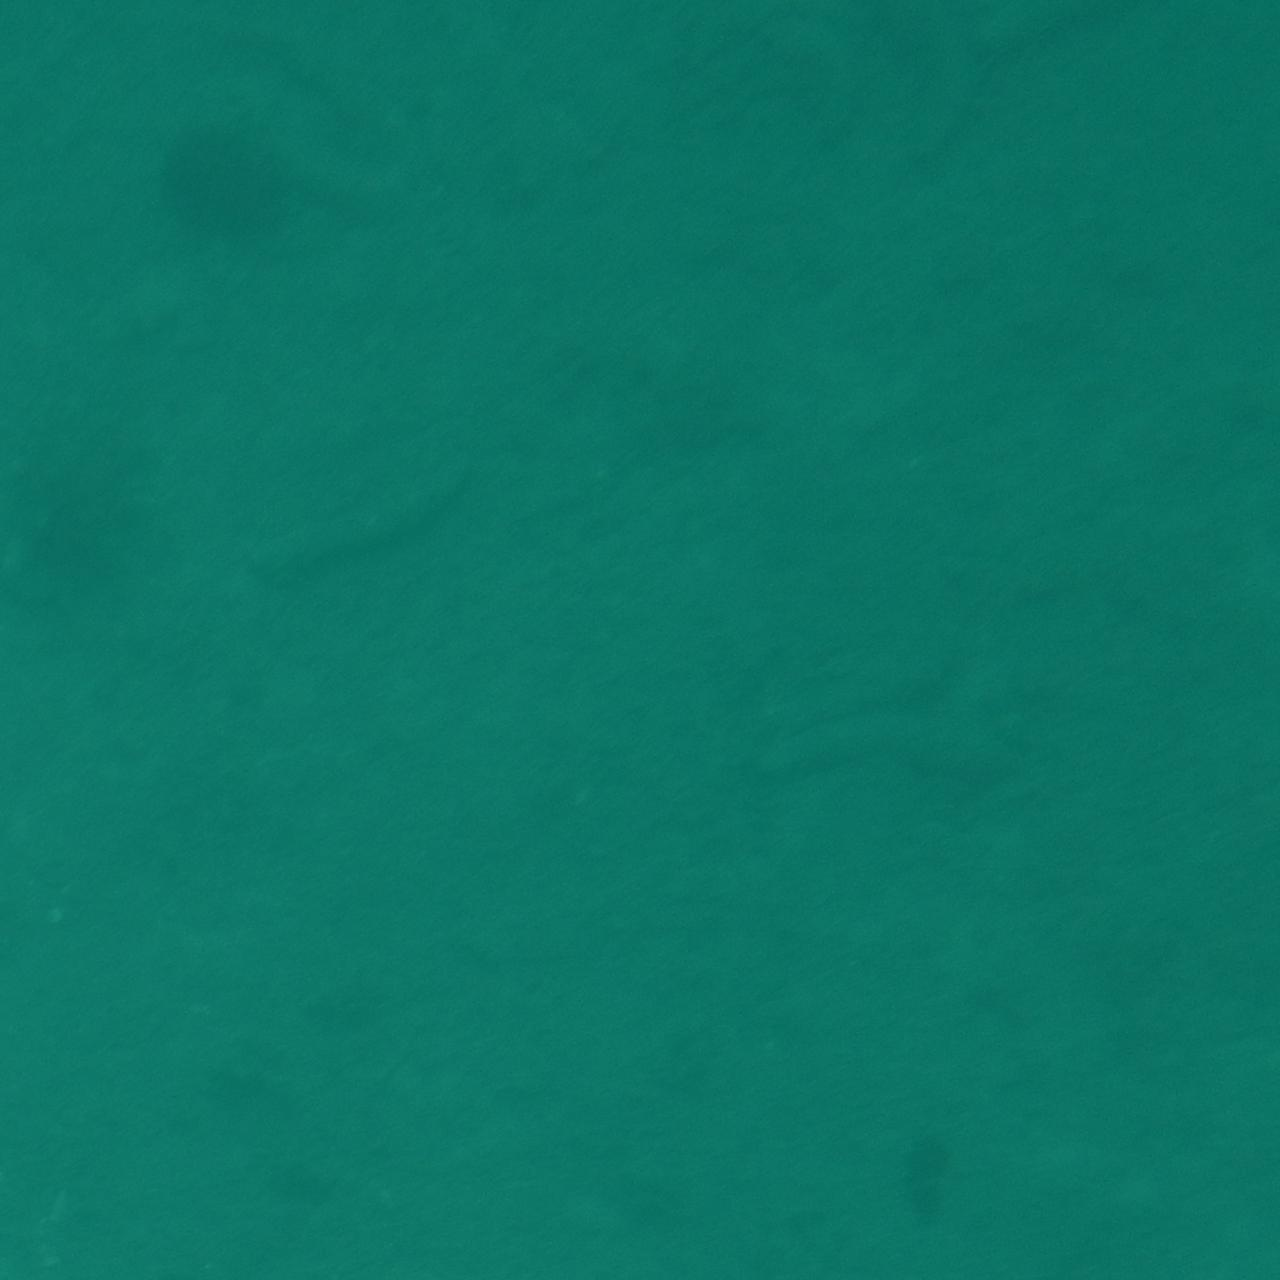Holothuria tubulosa: (723, 685, 1077, 825), (243, 440, 517, 612)
